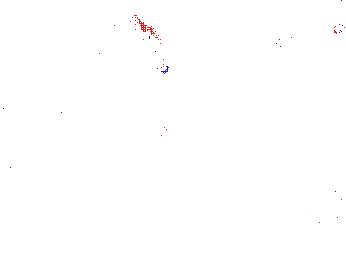glassfish: (151, 123, 185, 200), (117, 203, 176, 228)
redtail glassfish: (32, 41, 109, 72), (139, 20, 172, 76), (215, 25, 280, 49)
